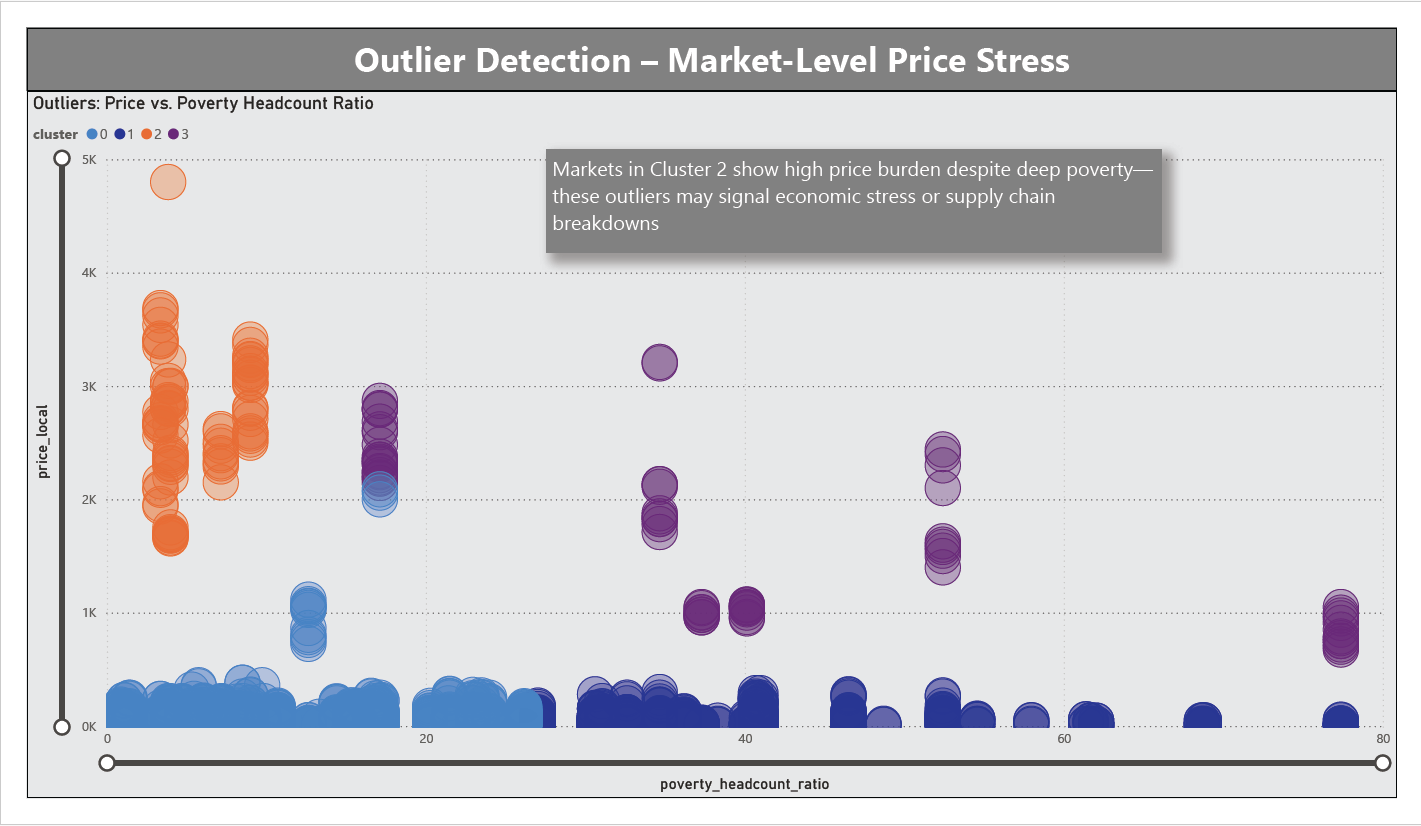

The dashboard page shown, as its layout file describes it:
{"tool":"powerbi","page":{"name":"Outlier Detection","canvas":[1280,720],"ordinal":3},"visuals":[{"type":"scatterChart","title":"Outliers: Price vs. Poverty Headcount Ratio","fields":{"X":["df_matched.poverty_headcount_ratio"],"Y":["df_matched.price_local"],"Series":["df_matched.cluster"],"Size":["Count(df_matched.price_to_poverty_ratio)"]},"box":[0,58.6,1280,661.4],"z":0},{"type":"textbox","box":[0,0,1280,58.6],"z":1},{"type":"textbox","box":[485.7,114.3,574.3,95.7],"z":2}]}

Visuals, with their boxes on the page's 1280x720 design canvas (x1, y1, x2, y2). These are canvas units, not pixel positions in the 1421x826 screenshot, which may show the page scaled, cropped or inside an application window:
"Outliers: Price vs. Poverty Headcount Ratio" scatterChart: (0,59,1280,720)
textbox: (0,0,1280,59)
textbox: (486,114,1060,210)
